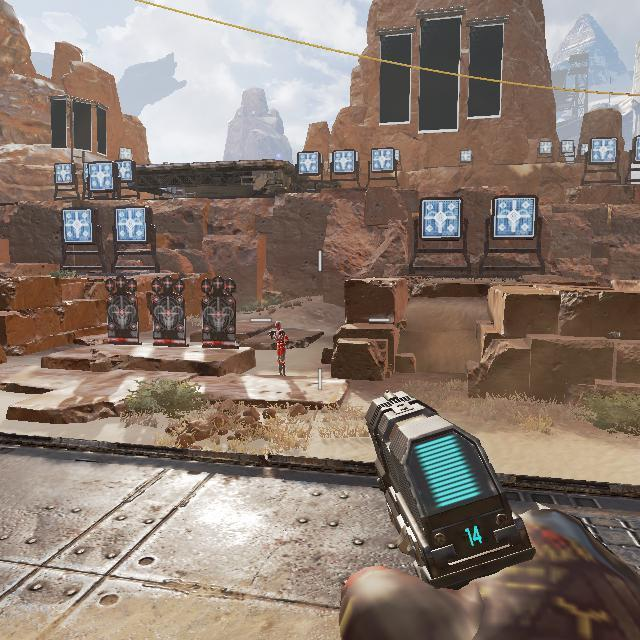avatar: (272, 319, 290, 377)
